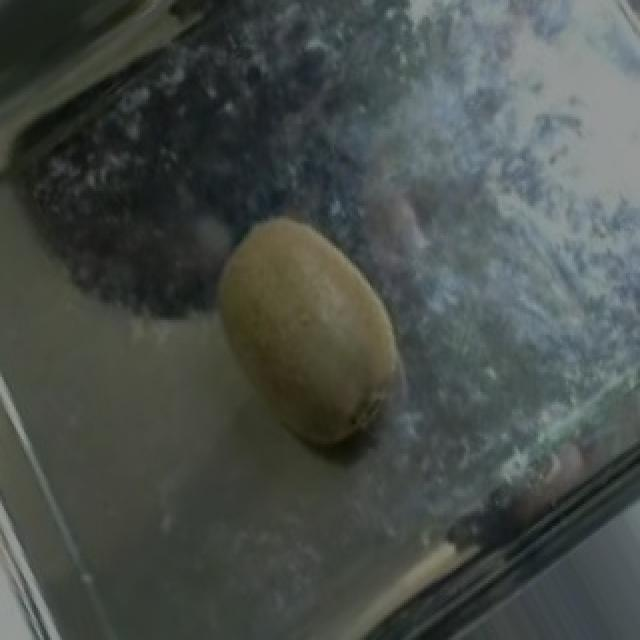Fruit: (172, 184, 440, 481)
